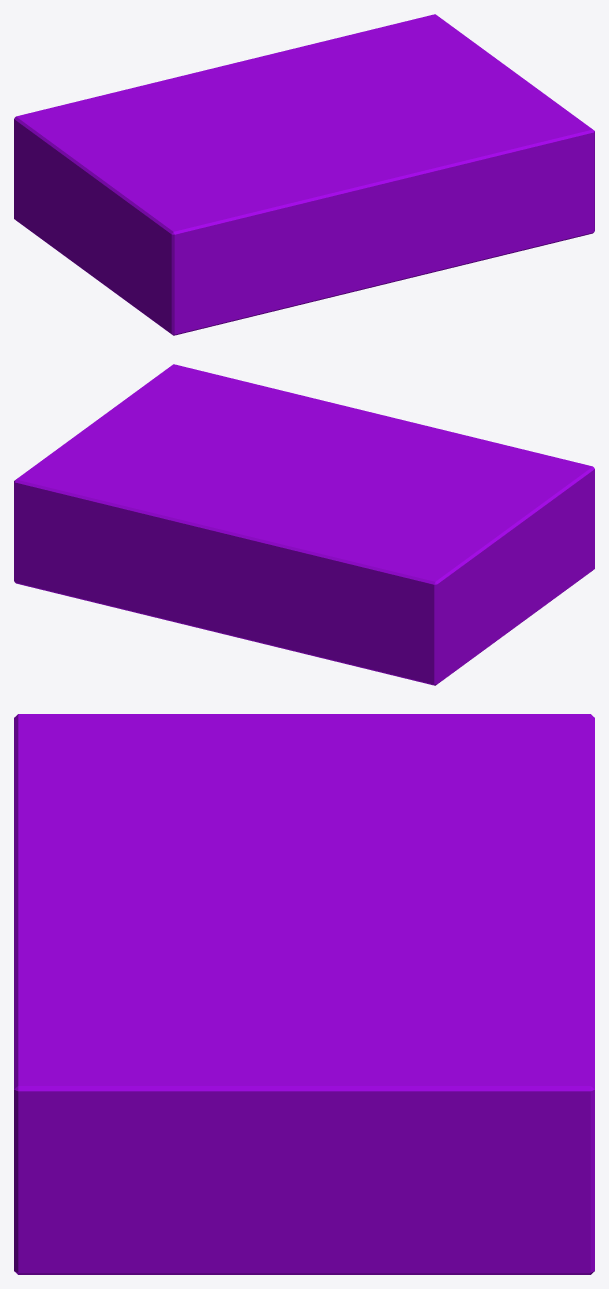
File: Domino_Mahjong_02.fbx
3 renders of one model, top to bottom at view 1: azimuth 30°, elevation 25°; view 2: azimuth 150°, elevation 25°; view 3: azimuth 270°, elevation 25°, orthographic. The views are drawn at different scales.
Parts seen in each view (by area): view 1: Domino_Mahjong_02; view 2: Domino_Mahjong_02; view 3: Domino_Mahjong_02.
Boxes of the visible parts, x1=… form: Domino_Mahjong_02: x1=14, y1=14, x2=594, y2=335; Domino_Mahjong_02: x1=14, y1=364, x2=594, y2=685; Domino_Mahjong_02: x1=14, y1=714, x2=594, y2=1274.
Bounding box in the file's own units: 25.27 × 5.93 × 16.53.
